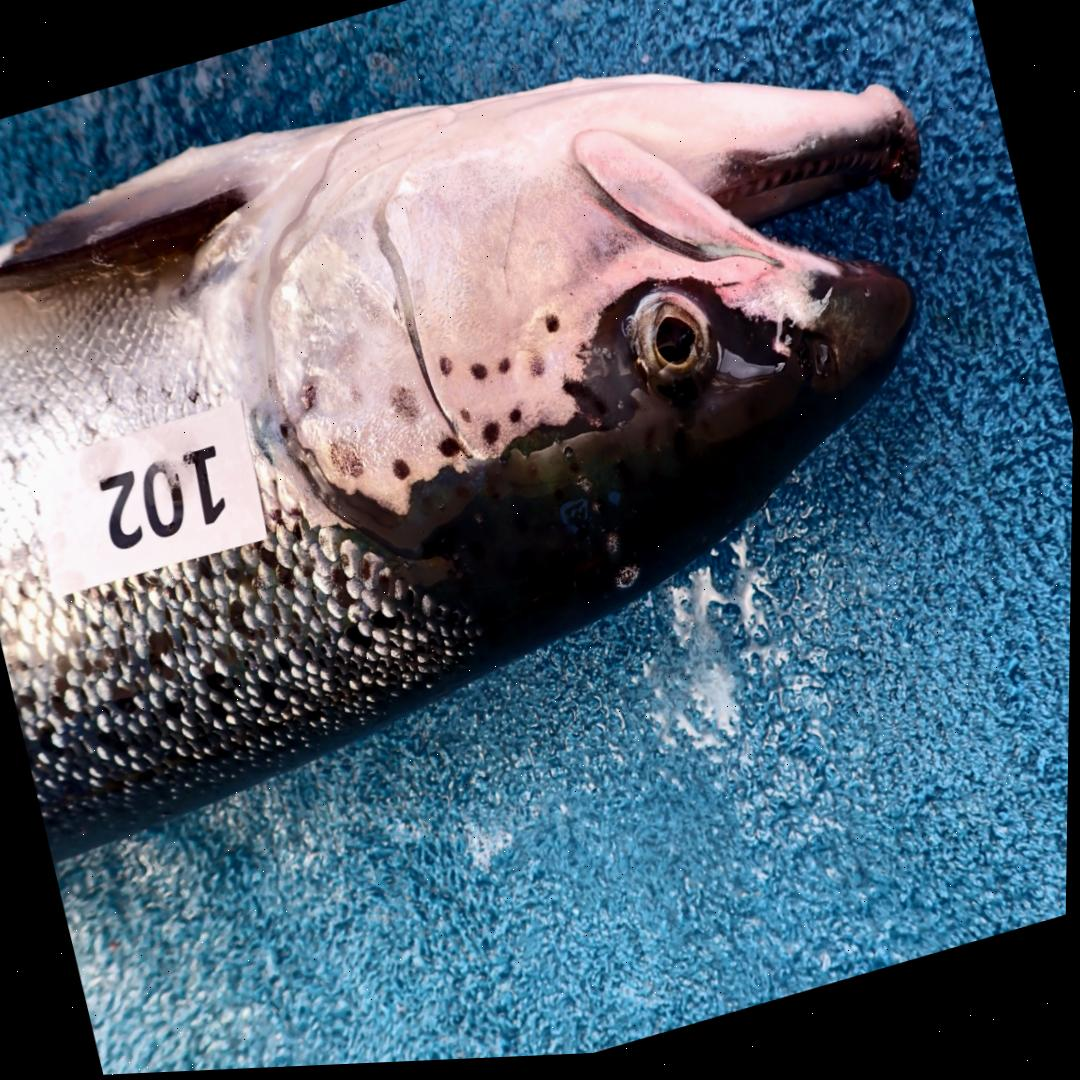spot: (328, 438, 365, 486), (390, 390, 421, 427), (527, 353, 547, 383), (438, 440, 461, 461), (300, 386, 317, 414), (482, 425, 500, 450), (392, 462, 410, 484), (348, 385, 364, 409), (470, 366, 487, 384), (545, 318, 560, 338), (438, 360, 453, 380), (509, 412, 522, 428), (499, 361, 510, 377), (459, 412, 470, 426)
